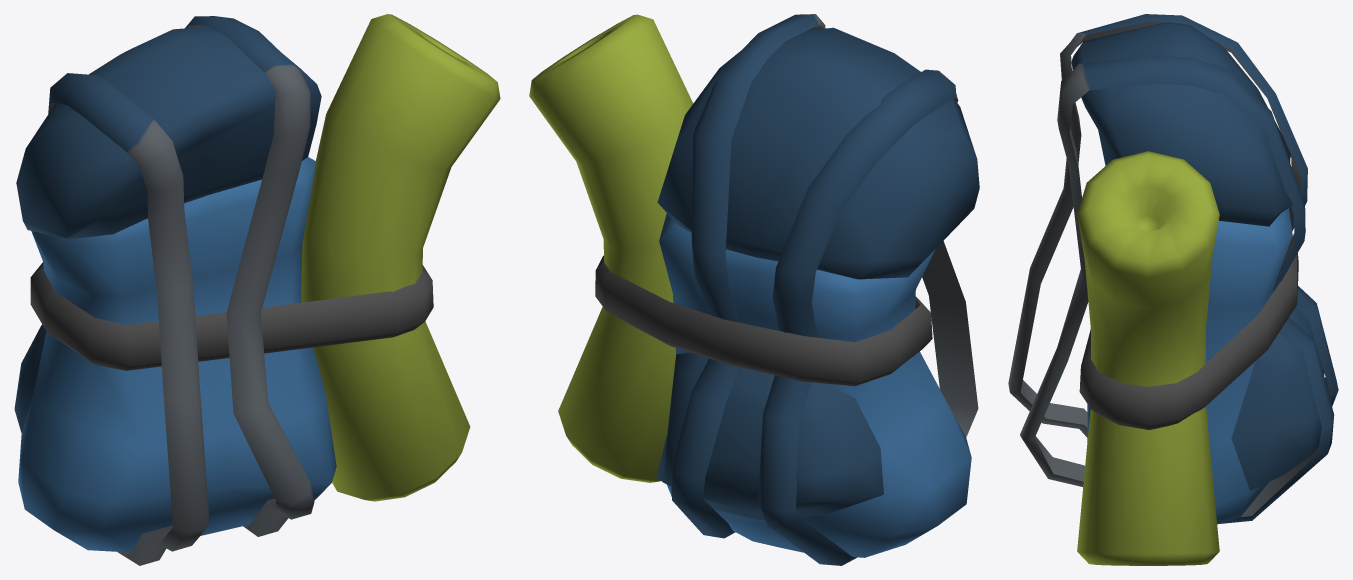
Rendered from Backpack.FBX.
The picture shows the model from 3 angles, left to right: view 1: azimuth 30°, elevation 25°; view 2: azimuth 150°, elevation 25°; view 3: azimuth 270°, elevation 25°; orthographic projection. The views are drawn at different scales.
Parts seen in each view (by area): view 1: Backpack; view 2: Backpack; view 3: Backpack.
Part boxes in pixels (x1,y1,x2,y2): Backpack: (14, 14, 500, 565); Backpack: (529, 14, 979, 565); Backpack: (1008, 14, 1338, 565).
Size of the model in its own units: 101 by 110 by 70.95.
